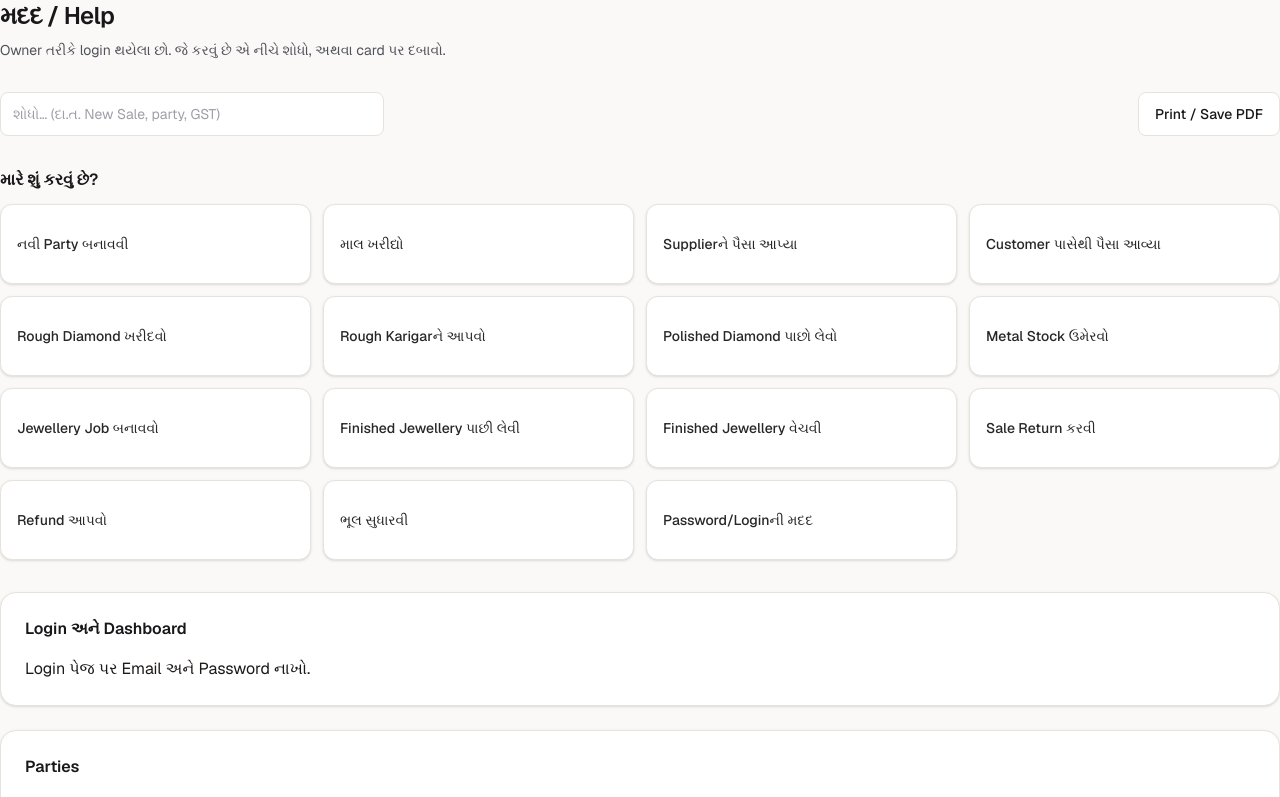
Test: HelpPageClient › shows a friendly empty message when nothing matches the search
The width and height of the screenshot is (1280, 797).
Type "zzzznomatchzzzz" into the search field with placeholder "શોધો… (દા.ત. New Sale, party, GST)".
click(192, 114); type("zzzznomatchzzzz")  # box [0, 92, 384, 136]
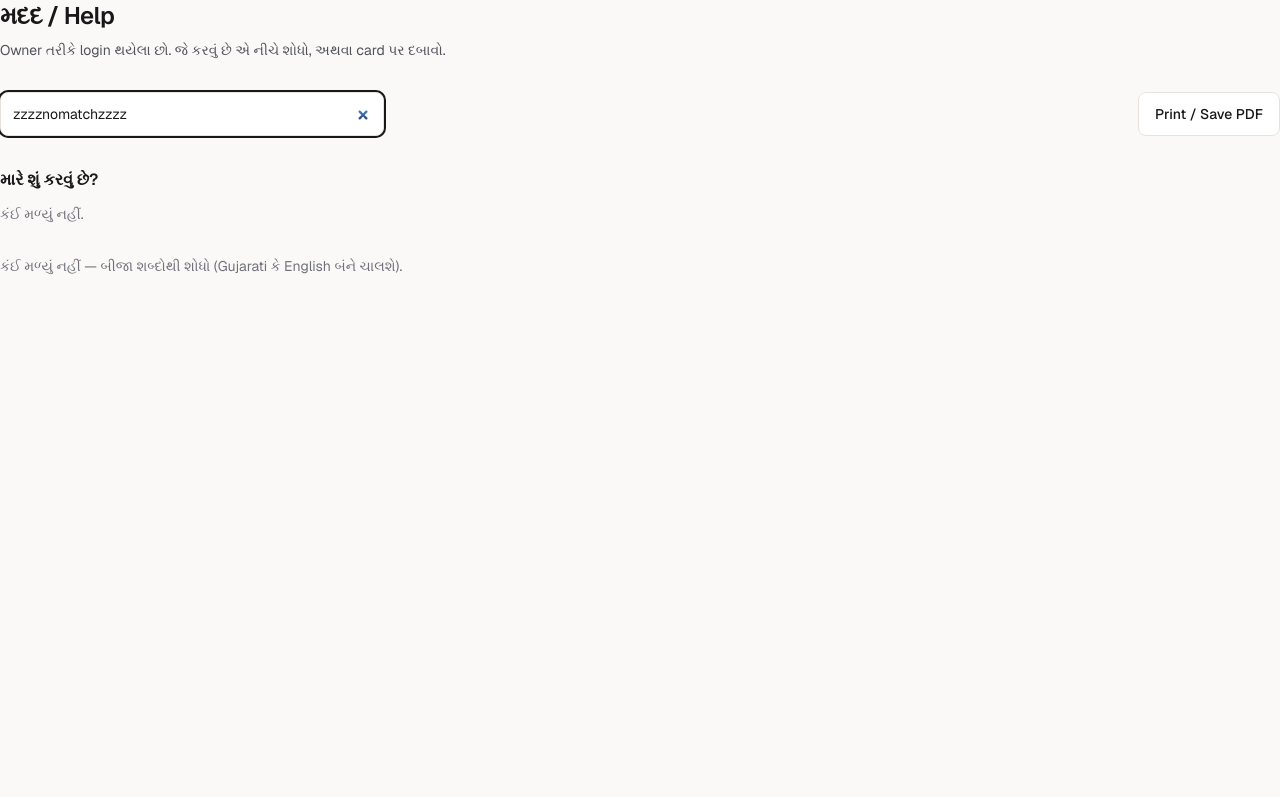
Result: the text "કંઈ મળ્યું નહીં." is shown at [0, 205, 84, 223]
